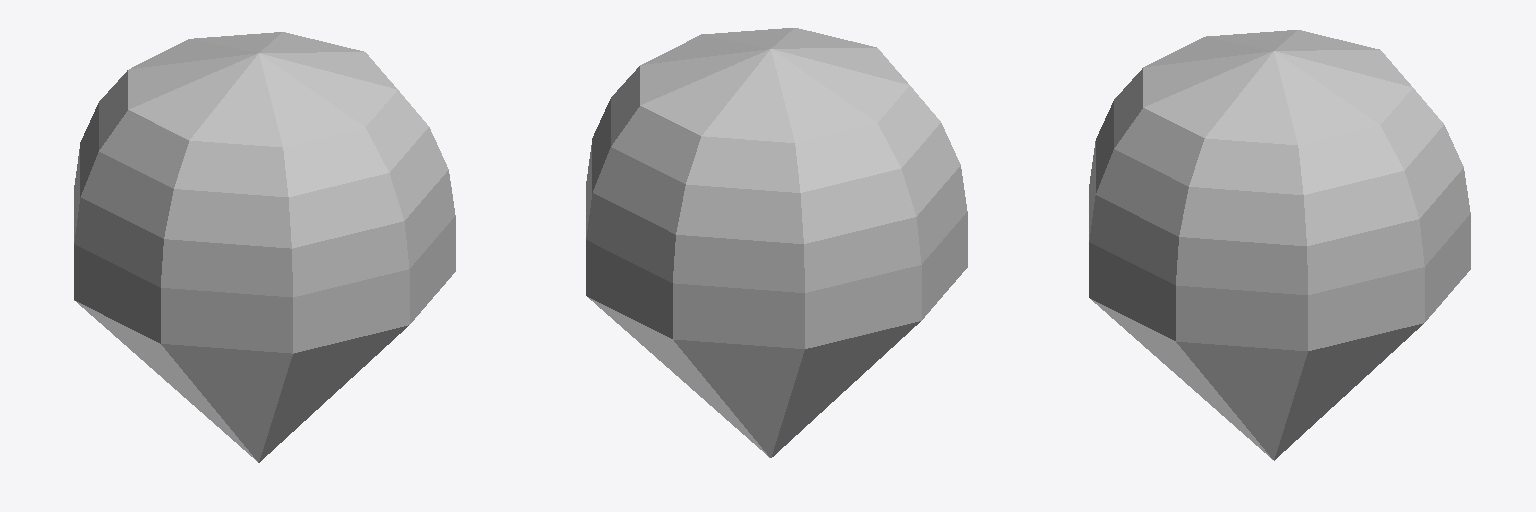
The model's file is skydome-reflect.obj.
The picture shows the model from 3 angles: view 1: azimuth 30°, elevation 25°; view 2: azimuth 150°, elevation 25°; view 3: azimuth 270°, elevation 25°; orthographic projection.
Parts seen in each view (by area): view 1: Sphere; view 2: Sphere; view 3: Sphere.
Part boxes in pixels (bbox=[...]): Sphere: bbox=[74, 32, 455, 462]; Sphere: bbox=[586, 28, 967, 457]; Sphere: bbox=[1089, 30, 1470, 460].
Bounding box in the file's own units: 1.97 × 2.3 × 1.94.